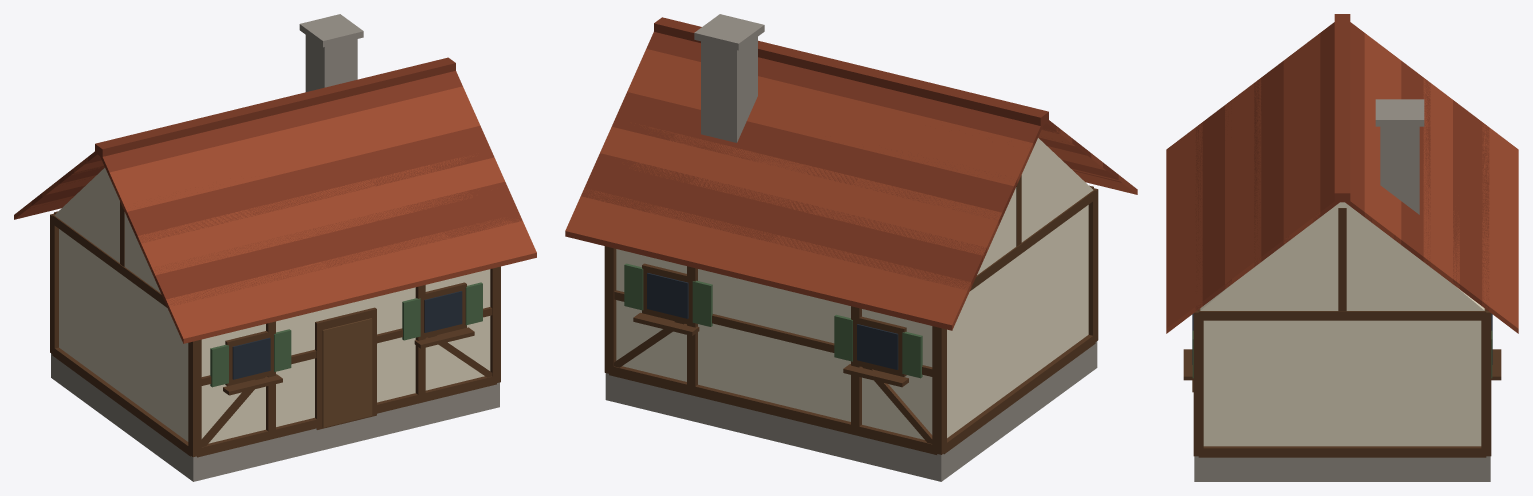
Rendered from house_small.glb.
The picture shows the model from 3 angles, left to right: view 1: azimuth 30°, elevation 25°; view 2: azimuth 150°, elevation 25°; view 3: azimuth 270°, elevation 25°; orthographic projection. The views are drawn at different scales.
Parts seen in each view (by area): view 1: house_small; view 2: house_small; view 3: house_small.
Part boxes in pixels (x1,y1,x2,y2): house_small: (14,14,536,481); house_small: (565,14,1137,481); house_small: (1166,14,1518,481).
Bounding box in the file's own units: 5.9 × 5.17 × 4.9.
